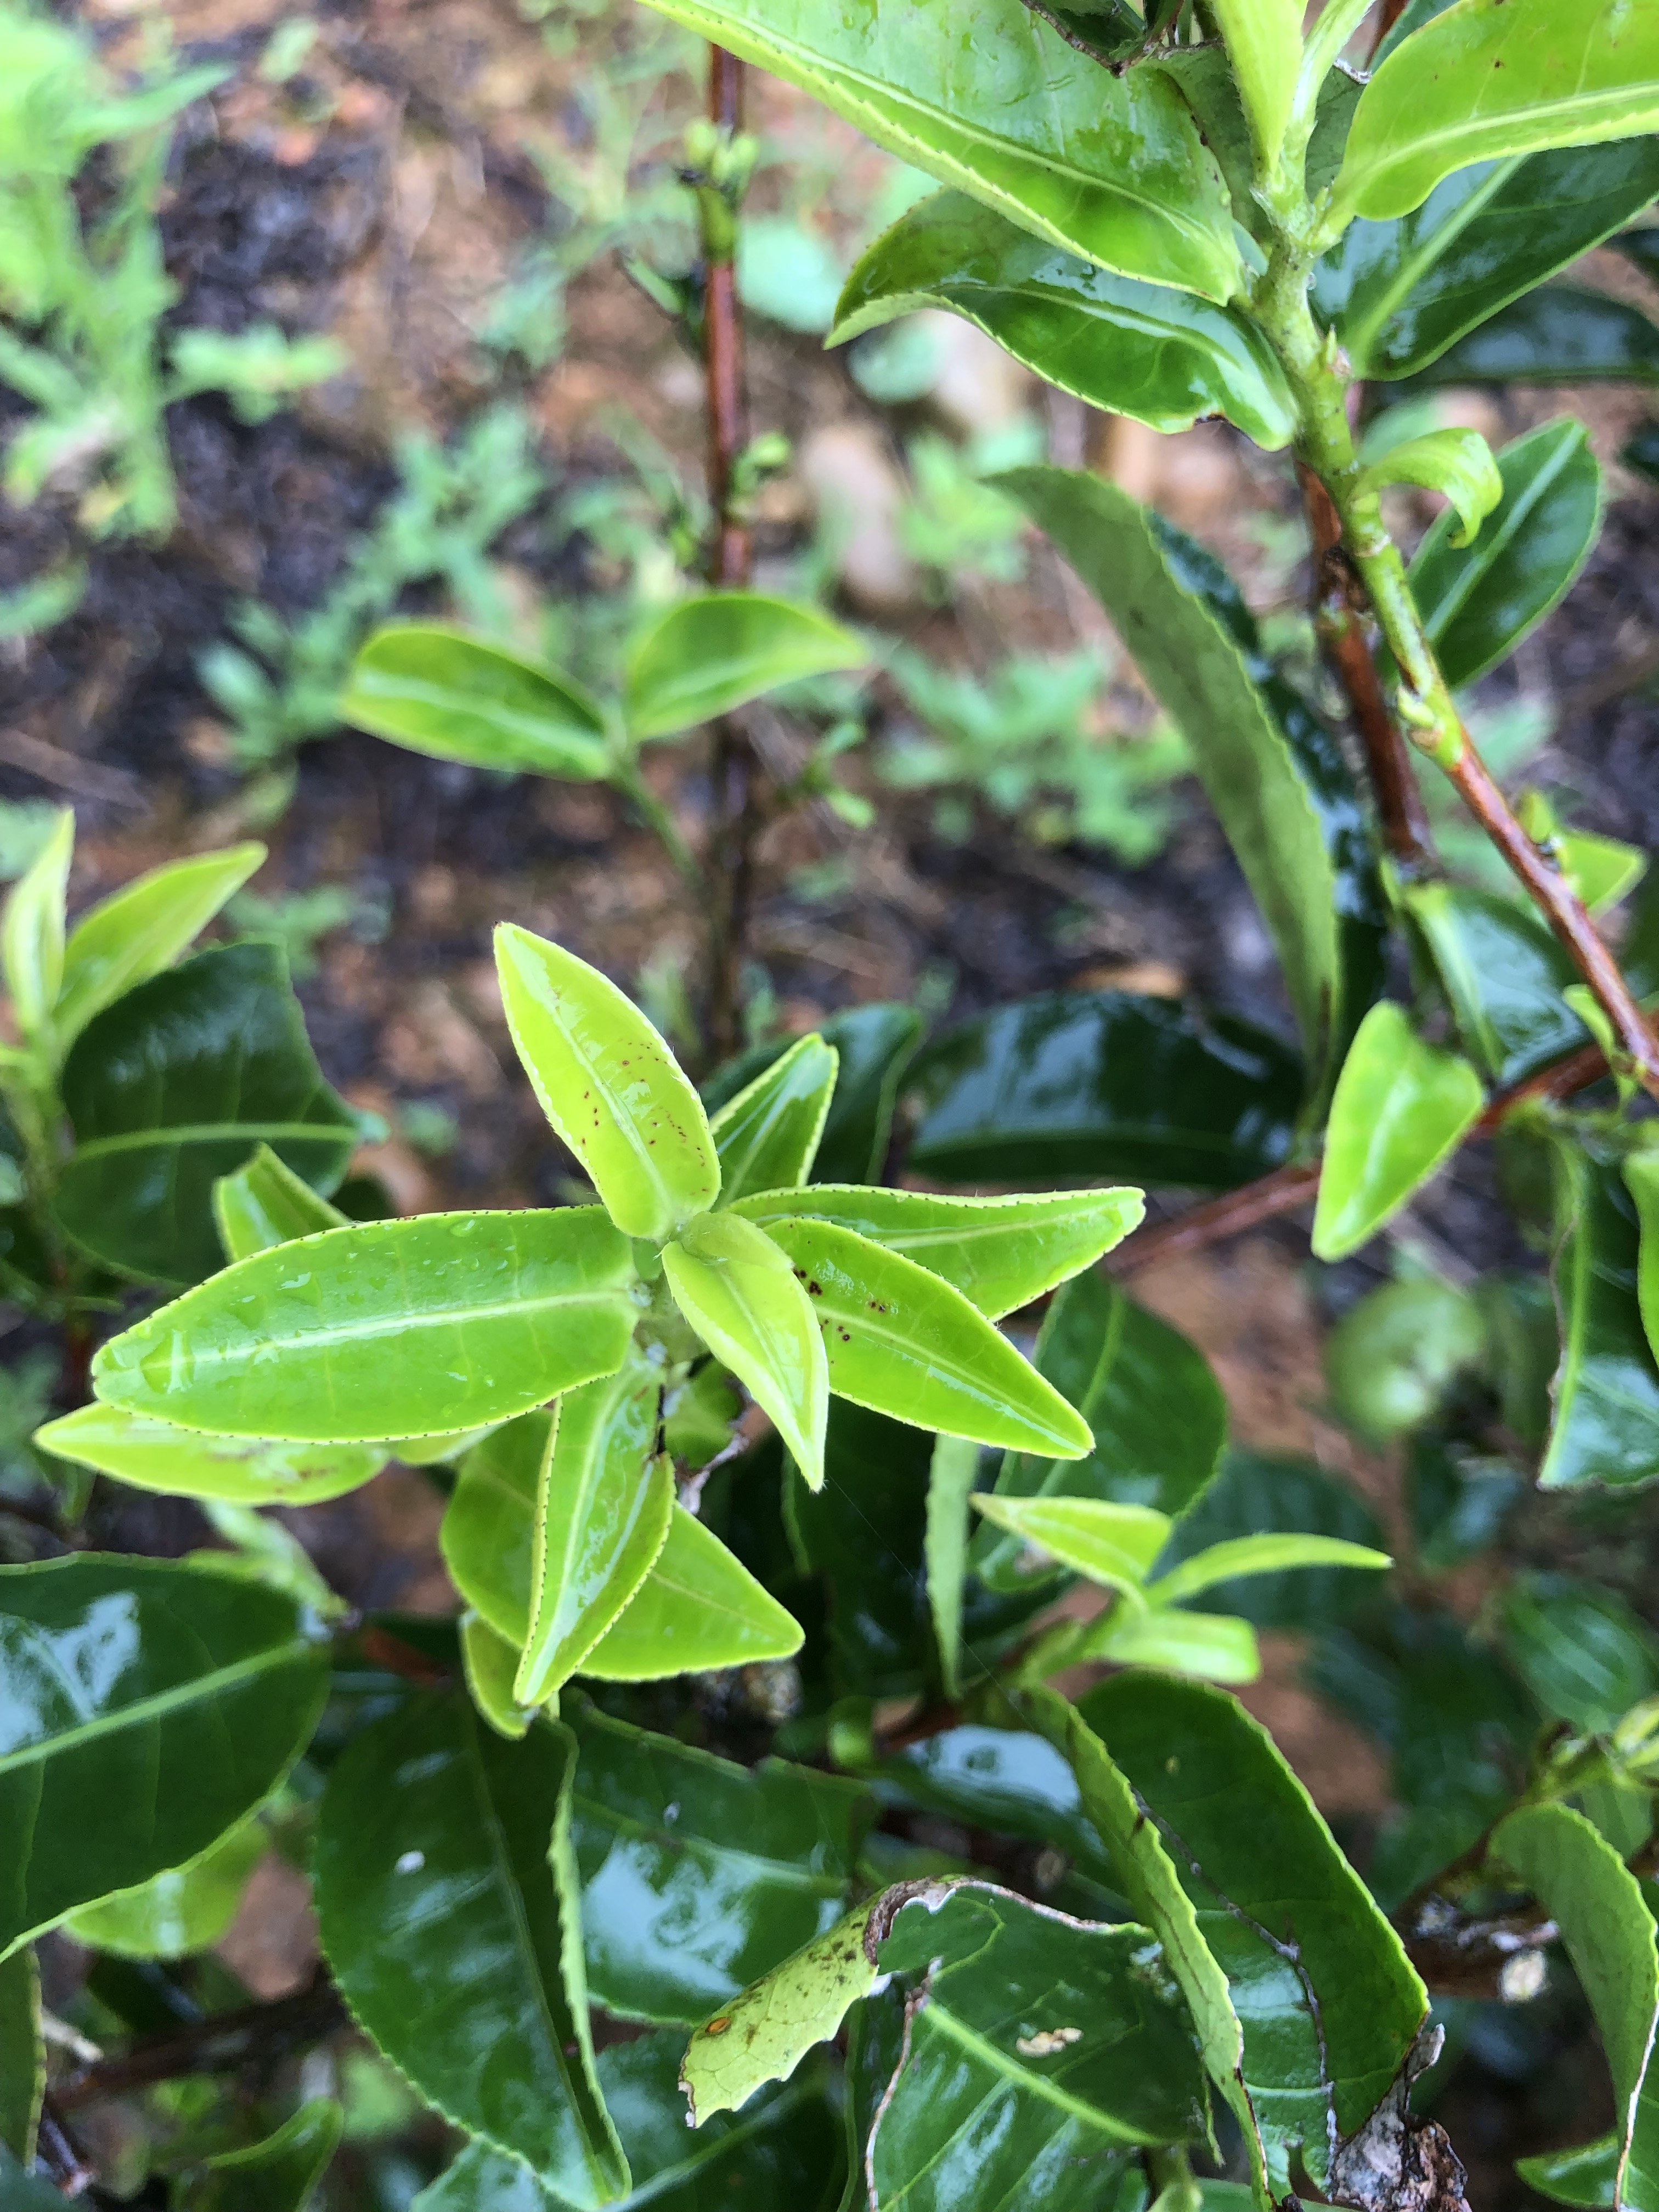formosa: (493, 914, 725, 1252)
fungi_early: (497, 927, 723, 1247)
thrips: (676, 2, 1239, 273), (836, 190, 1317, 418)
